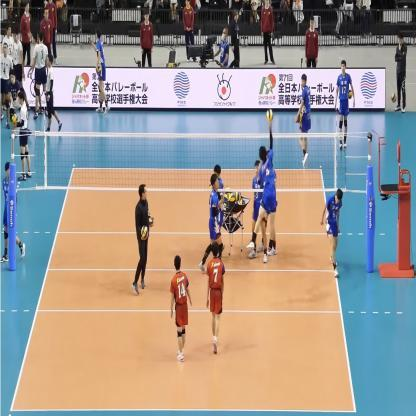spike: (246, 104, 278, 259)
